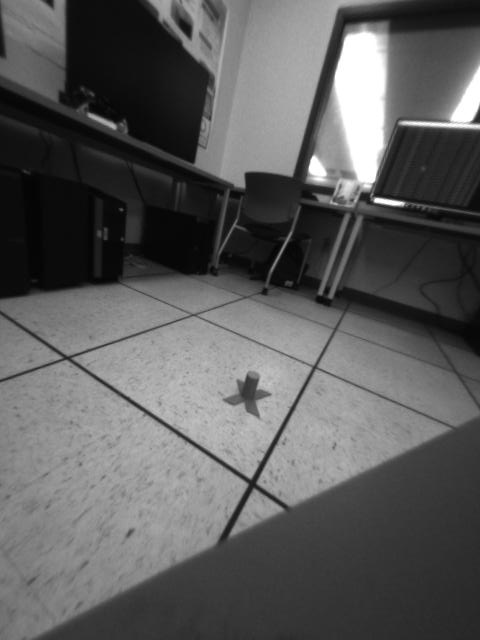X: (221, 372, 274, 419)
